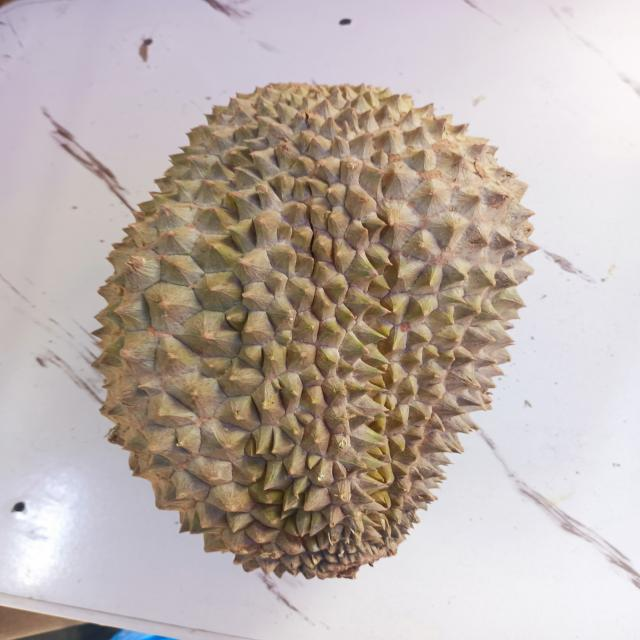mature: (83, 80, 536, 579)
